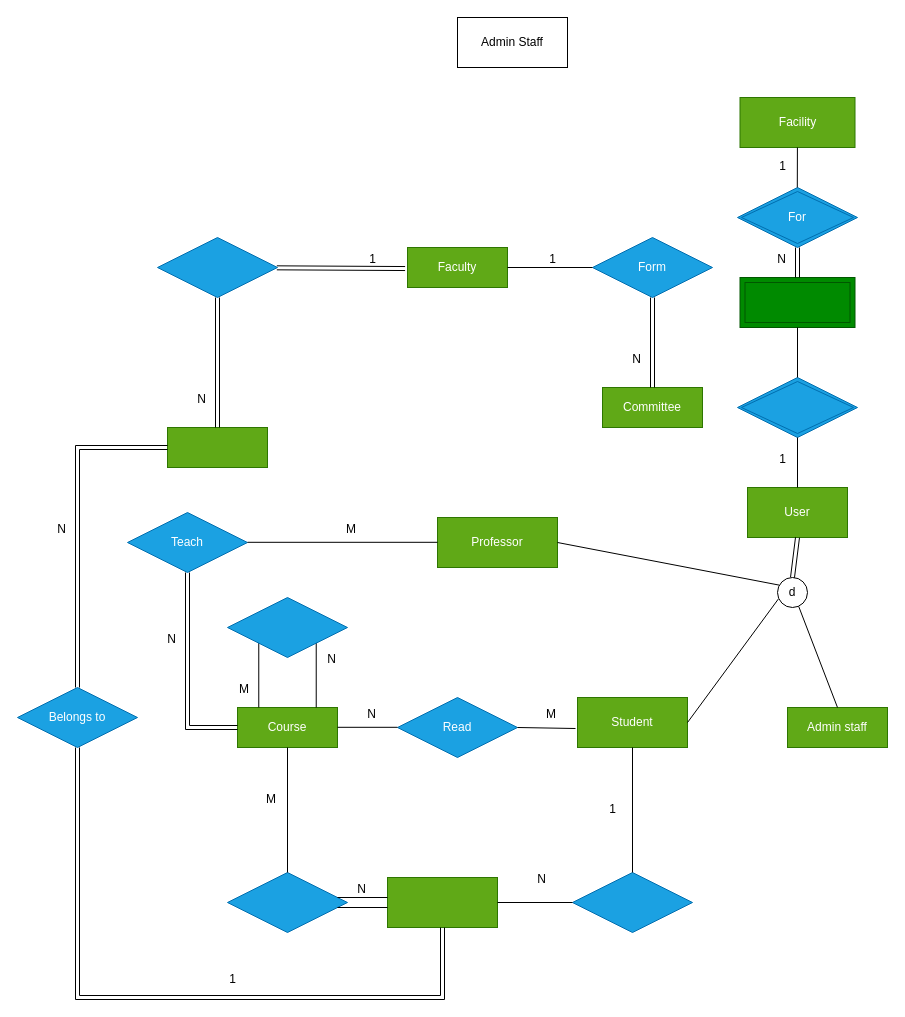
The diagram is 905 pixels wide and 1017 high, and some of its shapes have lost their labels. Each missing label, with the centre of its shape:
"Contains" goes at [287,902].
"Department" goes at [217,447].
"Enroll in" goes at [632,902].
"Has" goes at [217,267].
"prerequisite" goes at [287,627].
"Program" goes at [442,902].
"Reserve" goes at [797,407].
"Timeslot" goes at [797,302].
